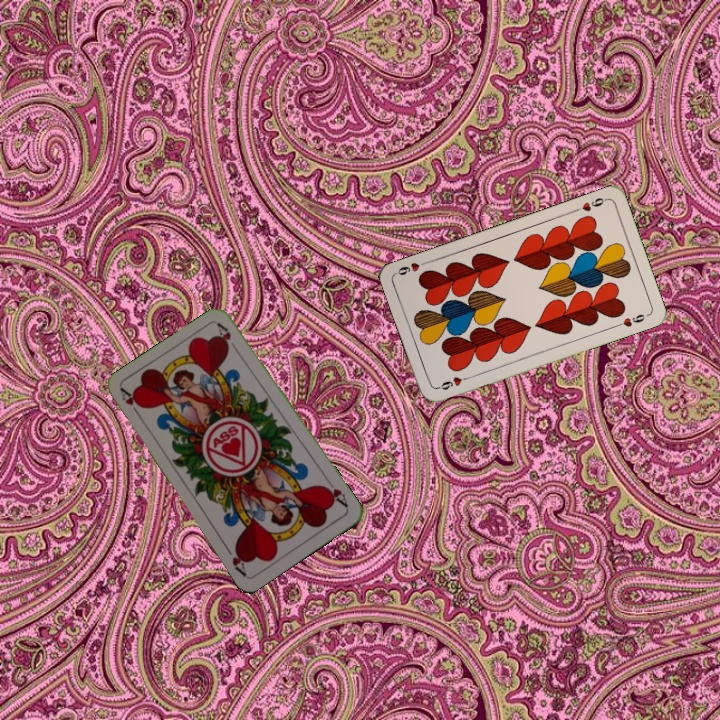H9: (571, 193, 610, 214), (433, 372, 473, 392)
HA: (320, 475, 351, 510), (116, 385, 145, 421)
